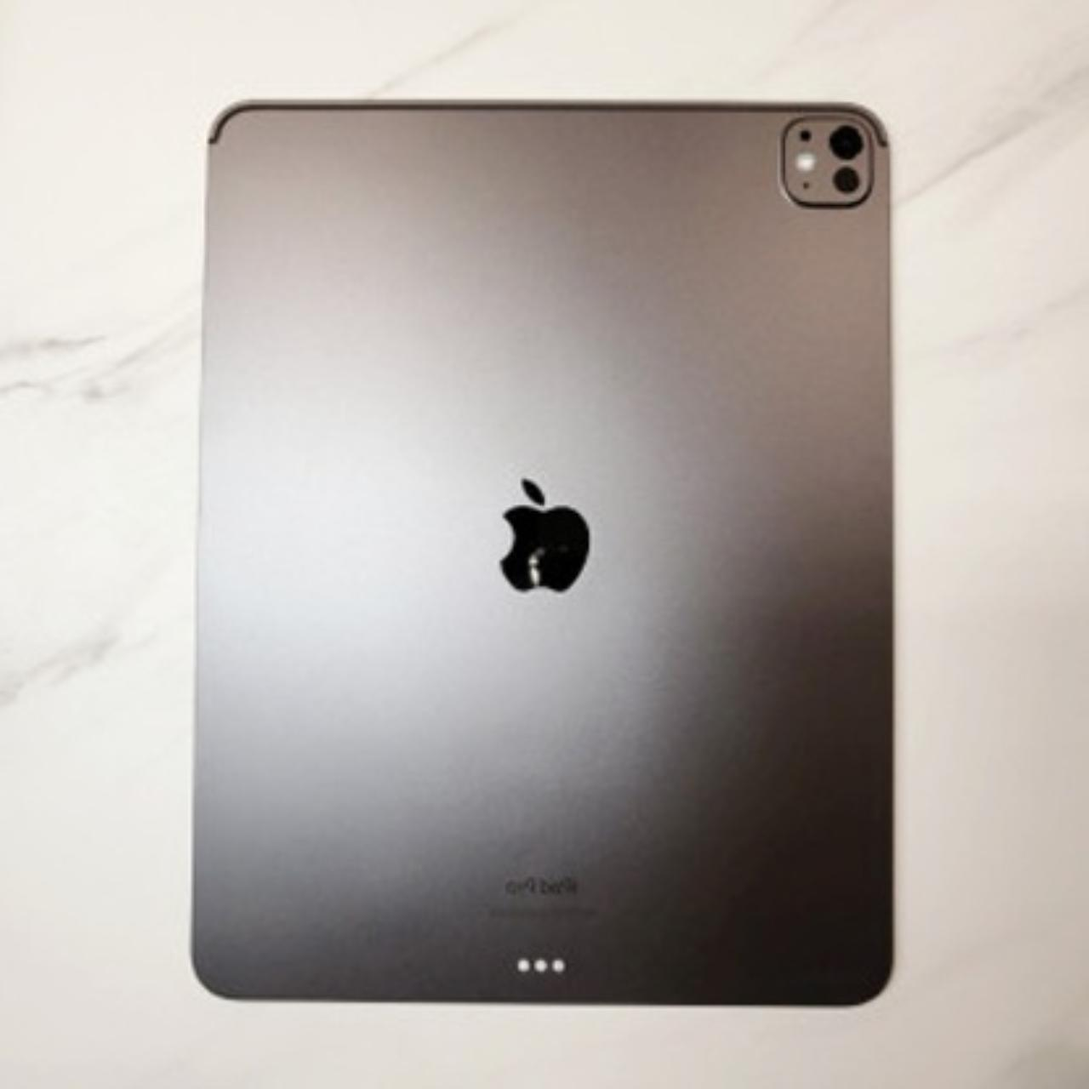Tablet_PC: (168, 87, 908, 1002)
